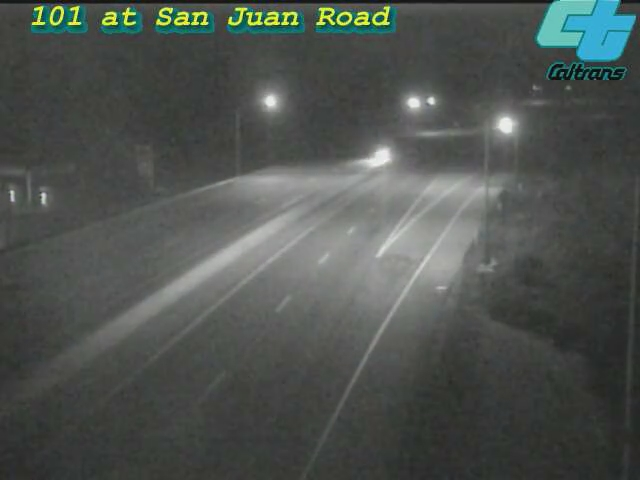vehicle: (355, 131, 405, 181), (481, 100, 531, 150)
